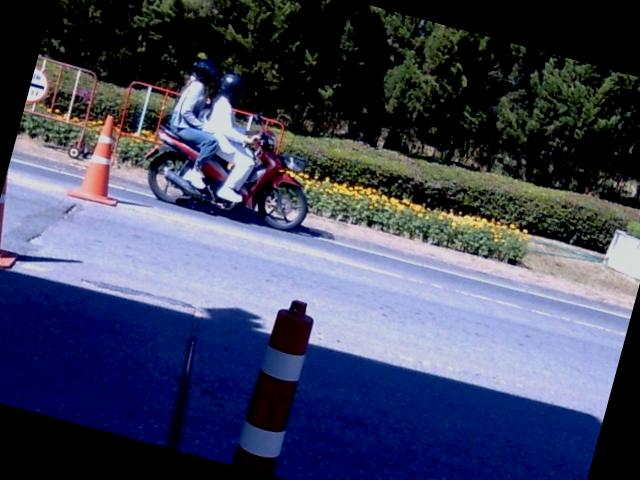helmet: (215, 66, 251, 106), (192, 58, 221, 82)
motor: (142, 124, 307, 229)
person: (203, 72, 258, 202), (170, 58, 221, 188)
